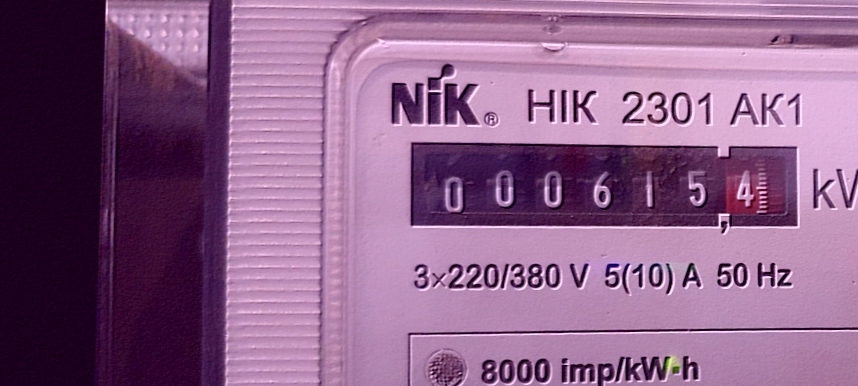0: (538, 165, 564, 208), (439, 170, 465, 212), (491, 165, 515, 205)
1: (641, 165, 656, 207)
4: (733, 164, 753, 206)
5: (684, 164, 708, 207)
6: (588, 166, 613, 207)
screen: (393, 121, 811, 246)
